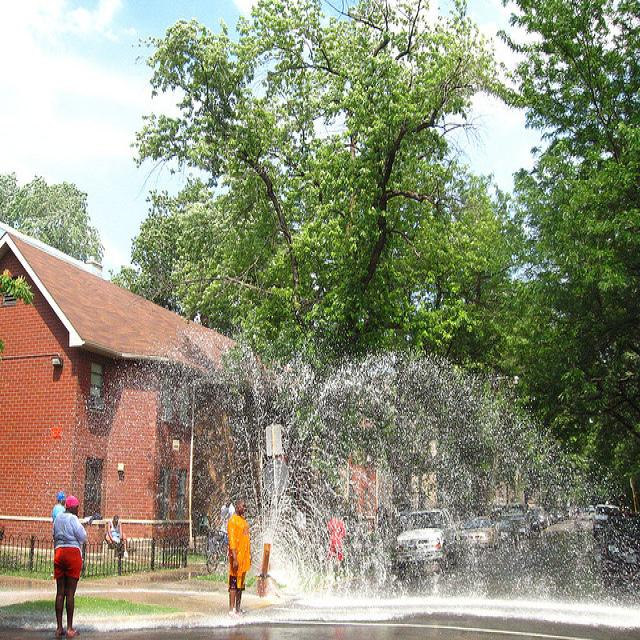Vehicle: (396, 509, 461, 569), (600, 514, 640, 590), (459, 516, 500, 550), (593, 504, 627, 539), (497, 518, 533, 542), (527, 507, 550, 530), (548, 508, 560, 526), (558, 513, 569, 522), (569, 510, 577, 520), (588, 507, 594, 512)
